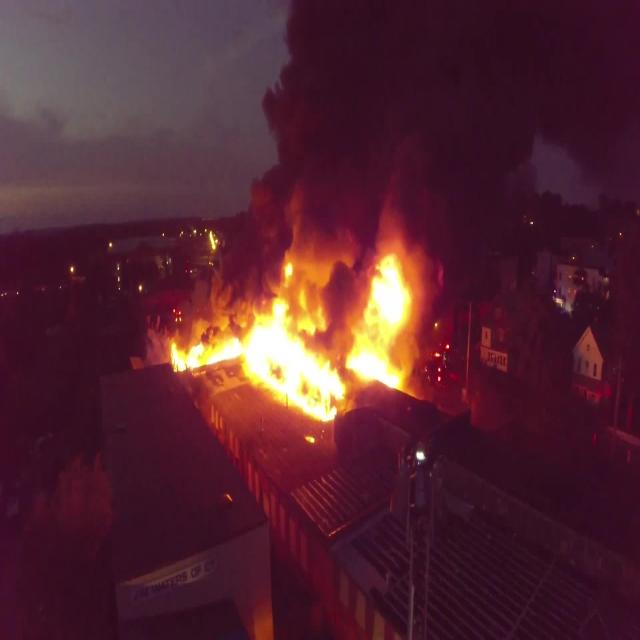Fire: (156, 240, 413, 426)
Smoke: (160, 0, 606, 376)
